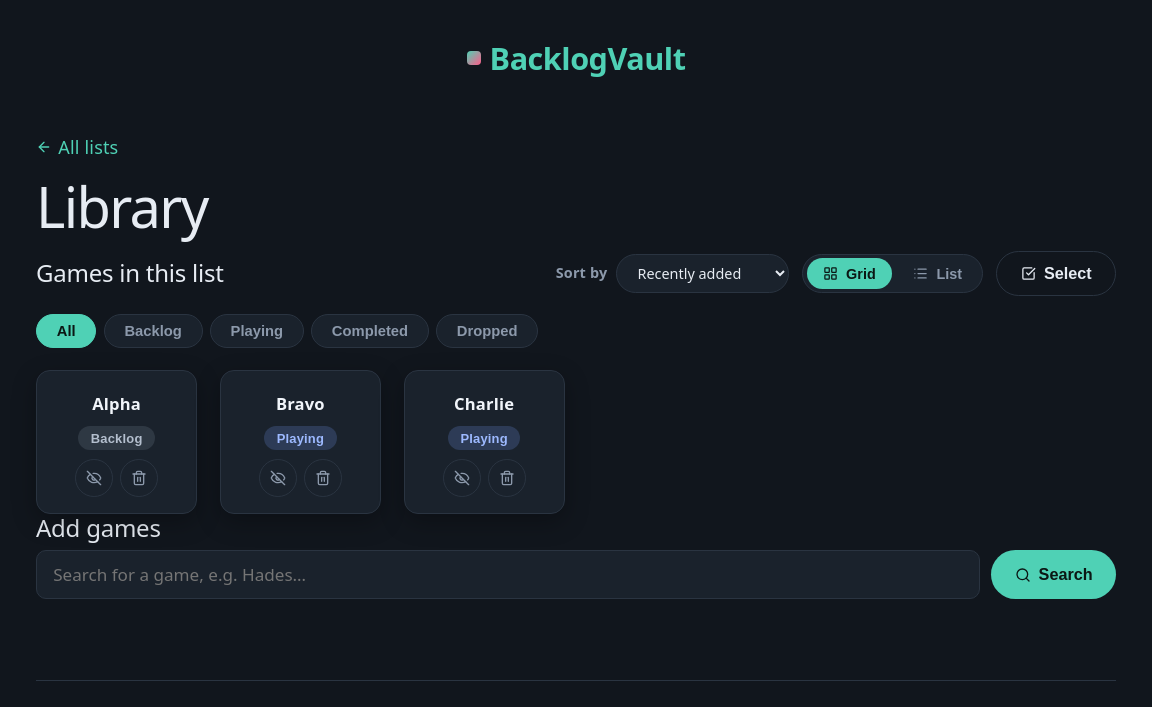
Test case: the list page › opens a game from its title button, so the keyboard can reach it
Expected: the heading "Library" is shown, [36,168,208,244]
What coordinates should you click on to do the following:
click the button "Bravo"
I would click on:
 (300, 404)
Its box is [276,391,325,417].
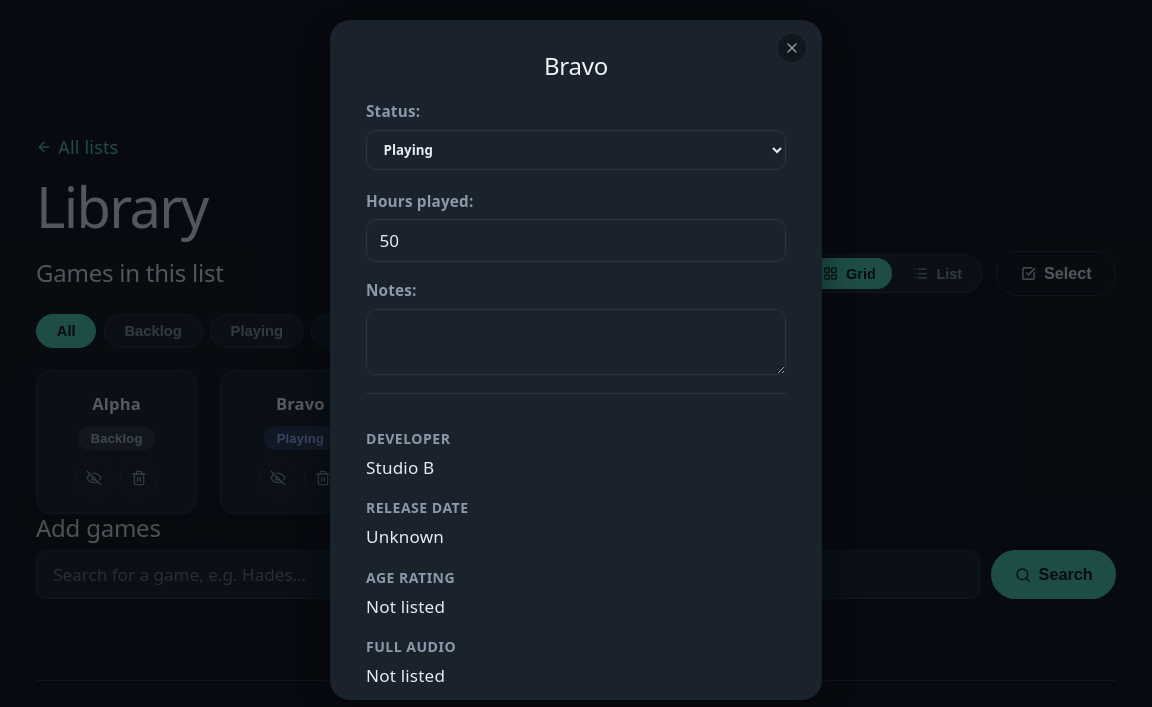
Now the heading "Bravo" is shown, box [544,49,608,82]
Now the button named "Close" is shown, box [778,34,806,62]
Now the text "Studio B" is shown, box [366,456,434,479]
